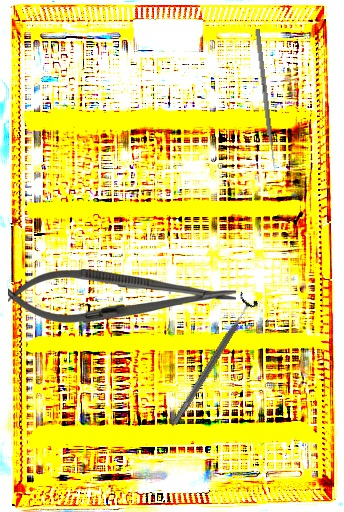Fixation Ring: (164, 291, 261, 430)
Needle Holder: (8, 269, 236, 324)
Pusher: (254, 28, 278, 175)
